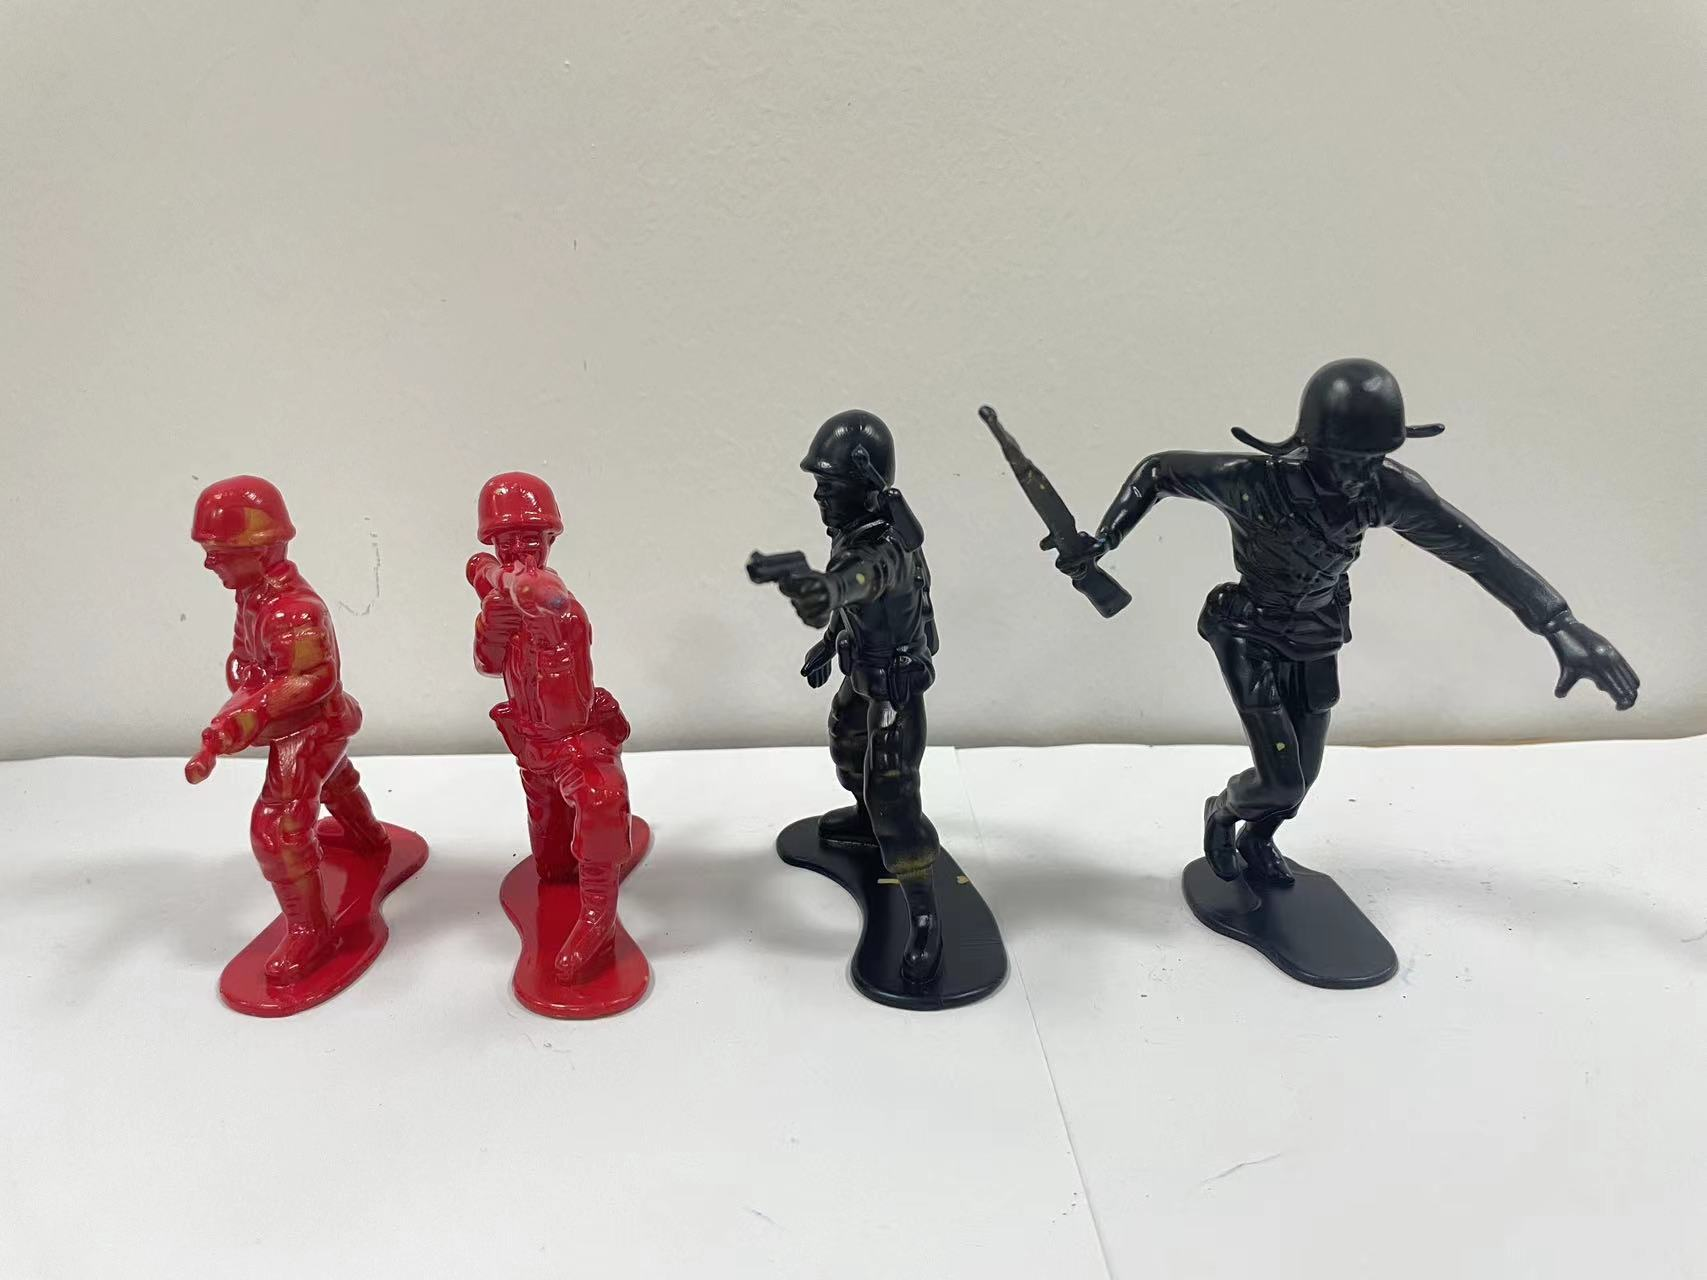black: (956, 284, 1681, 1135), (739, 352, 1020, 1086)
red: (126, 430, 433, 1113), (435, 460, 708, 1094)
